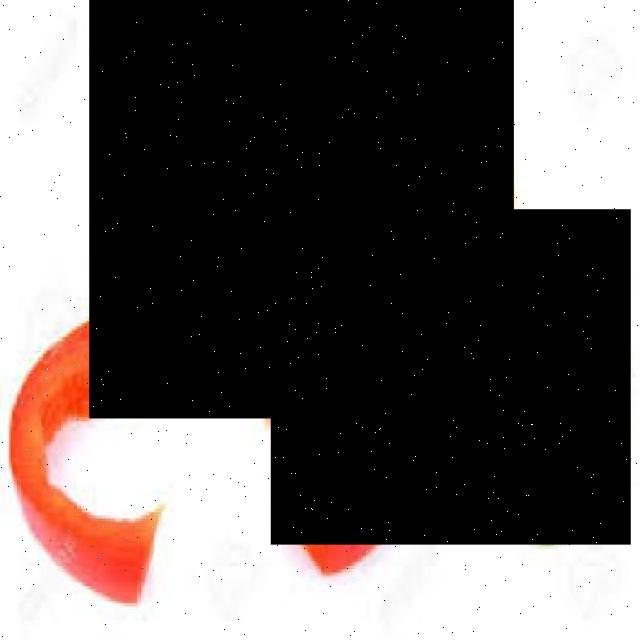Capsicum: (88, 0, 514, 418), (270, 210, 632, 544)
